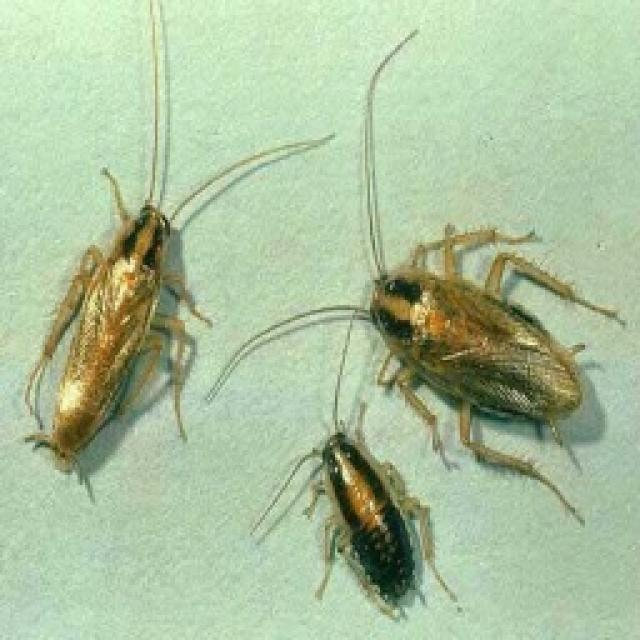cockroach: (302, 183, 616, 486), (11, 150, 231, 500), (275, 417, 457, 627)
